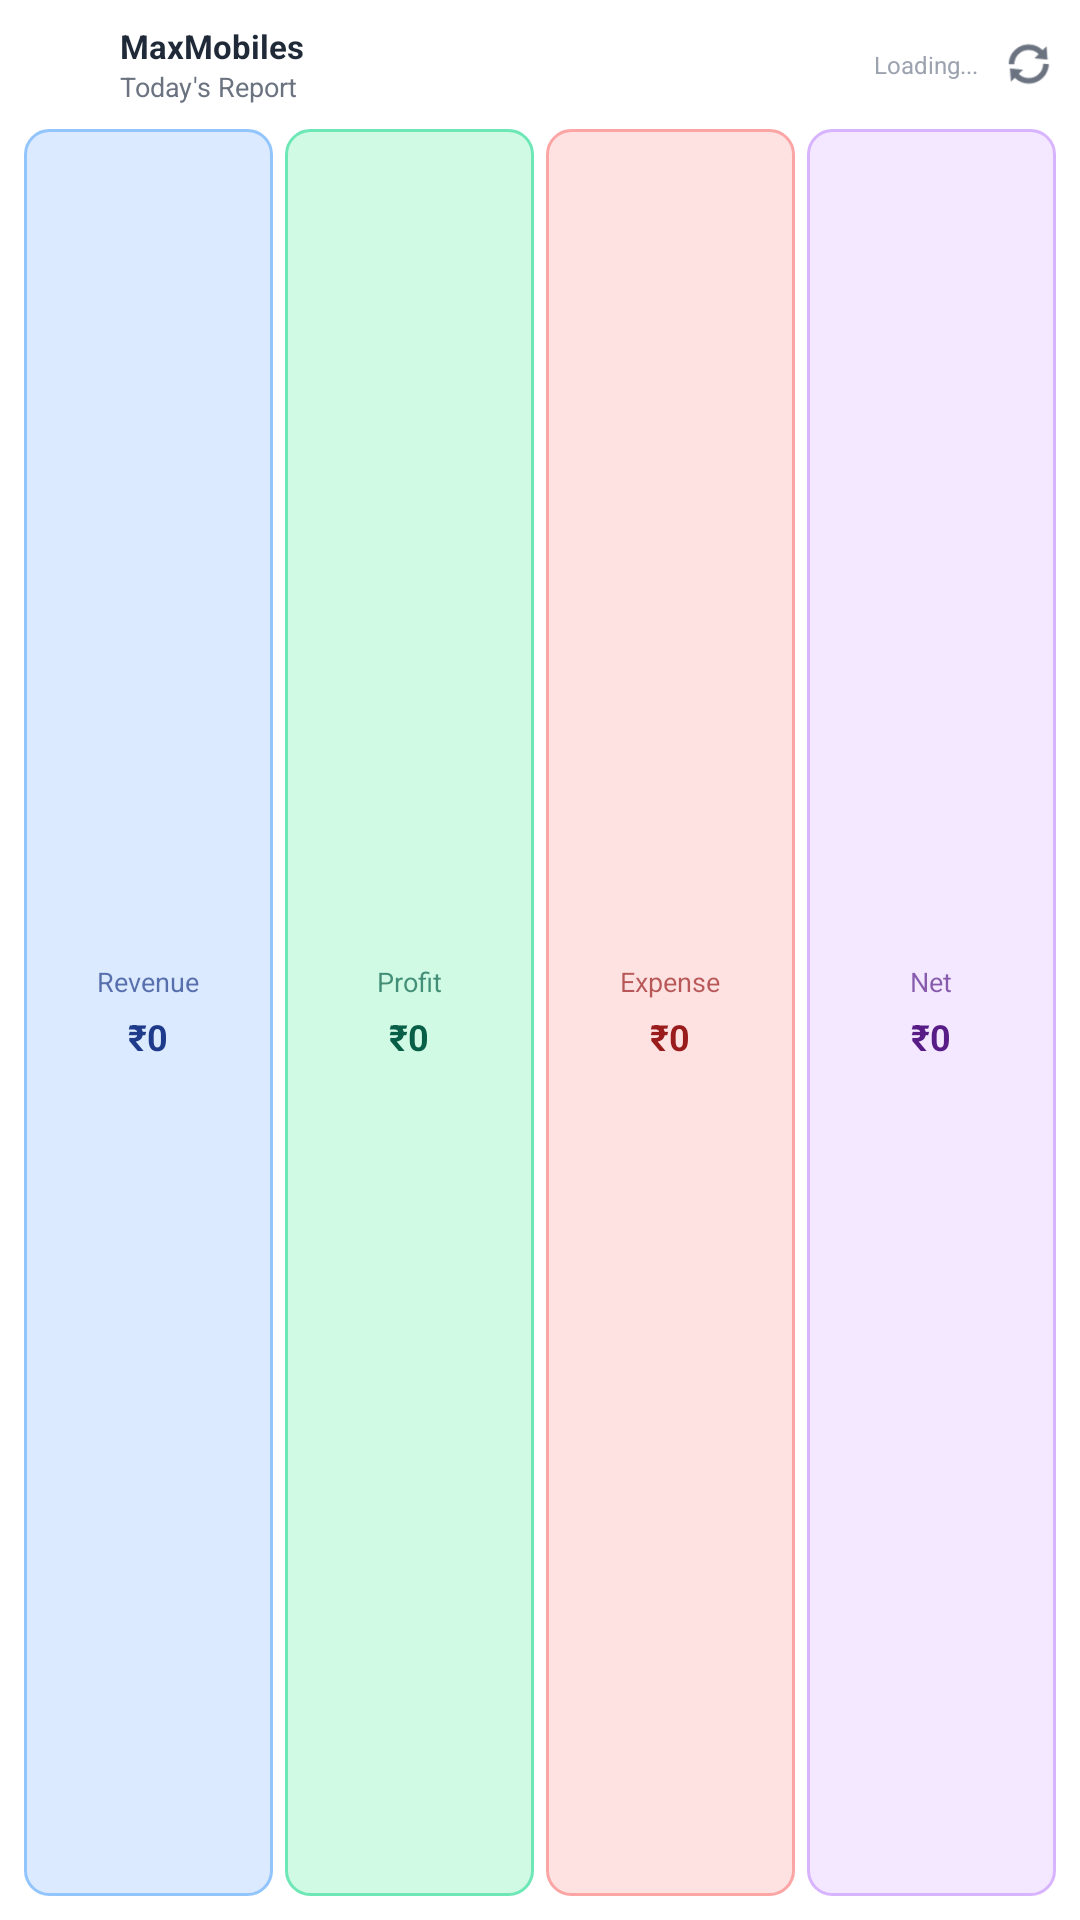

Locate icon controls on the screen. Image size 1080px×1920px, boxes as Rect(x1, y1, x2, y2).
Refresh: Rect(1008, 44, 1049, 84)
